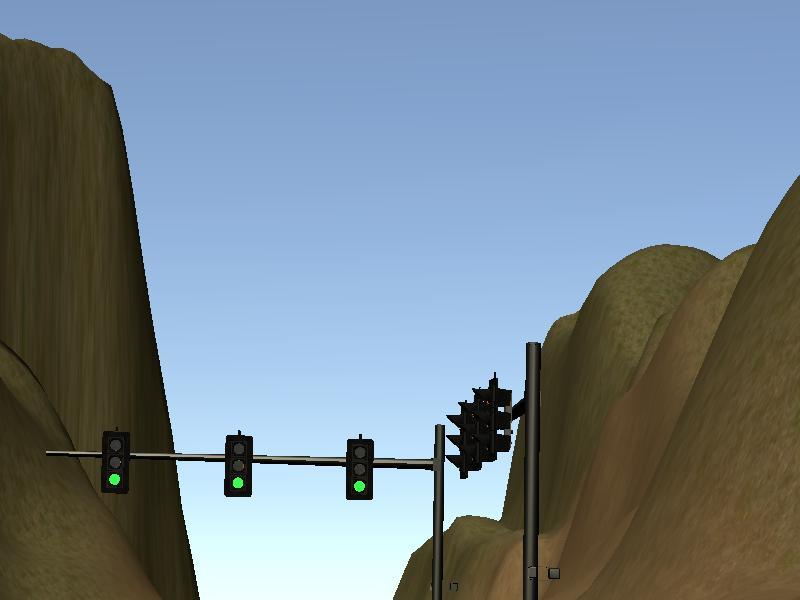Green: (345, 438, 374, 501), (224, 434, 253, 497), (99, 431, 128, 494)
